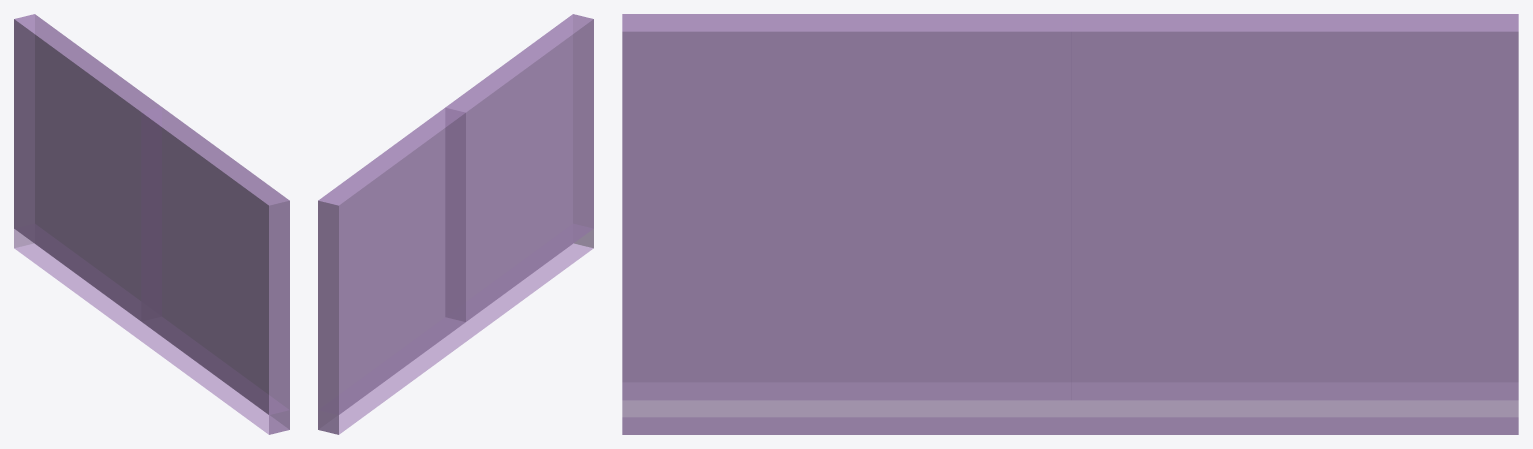
The model's file is porte.fbx.
3 renders of one model, left to right at view 1: azimuth 30°, elevation 25°; view 2: azimuth 150°, elevation 25°; view 3: azimuth 270°, elevation 25°, orthographic. The views are drawn at different scales.
Parts seen in each view (by area): view 1: entrée gare.002; view 2: entrée gare.002; view 3: entrée gare.002.
Boxes of the visible parts, <box> form: entrée gare.002: <box>14,14,289,434</box>; entrée gare.002: <box>318,14,593,434</box>; entrée gare.002: <box>622,14,1518,434</box>.
Size of the model in its own units: 47.25 by 499 by 1006.
